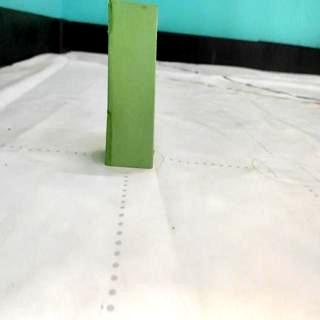greenbox: (106, 0, 160, 170)
